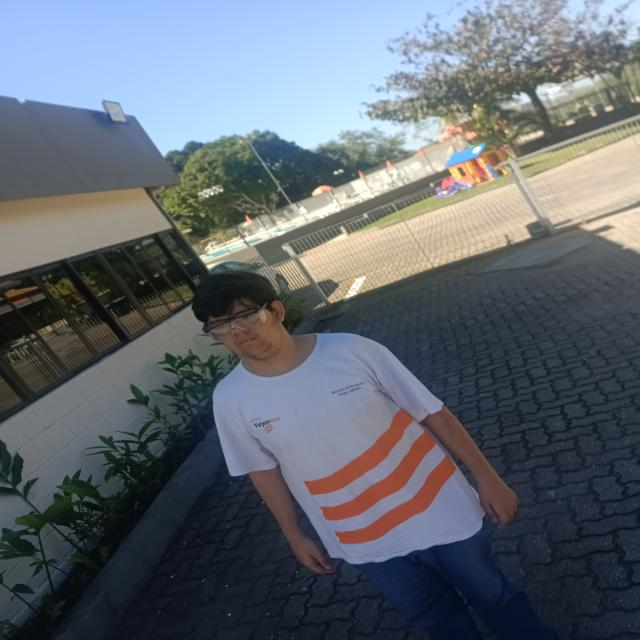oculos-epi: (201, 301, 269, 342)
